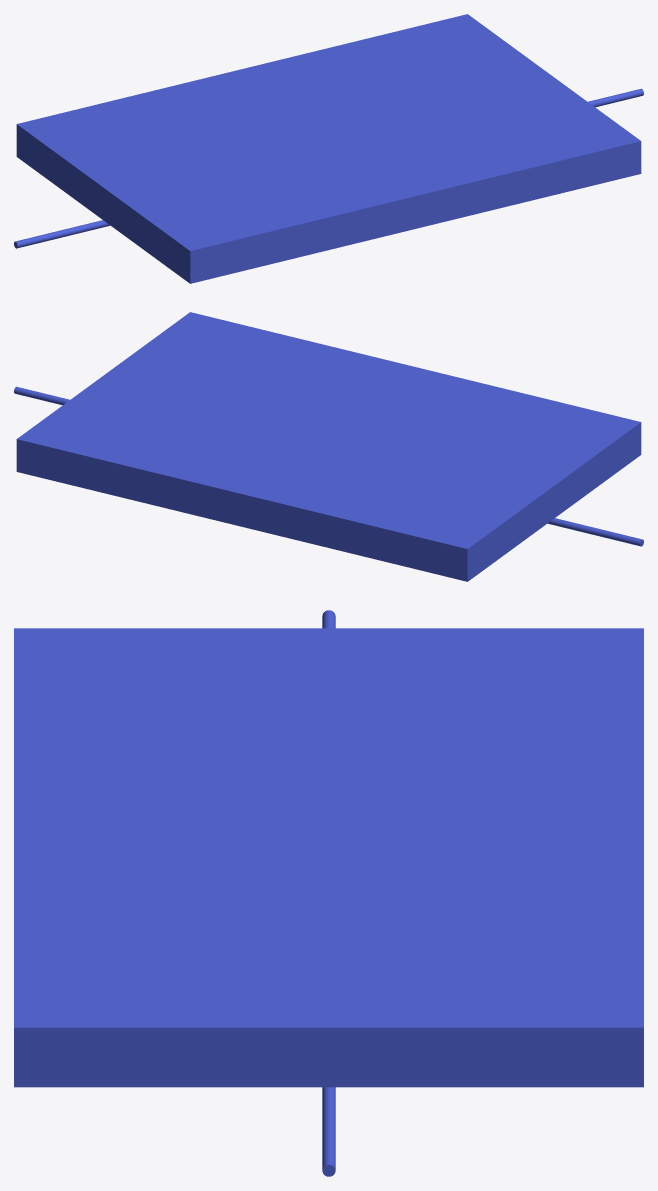
The model's file is Panel.dae.
3 renders of one model, top to bottom at view 1: azimuth 30°, elevation 25°; view 2: azimuth 150°, elevation 25°; view 3: azimuth 270°, elevation 25°, orthographic. The views are drawn at different scales.
Visible parts, largest first — view 1: Panel; view 2: Panel; view 3: Panel.
Part boxes in pixels (x1,y1,x2,y2): Panel: [14, 14, 643, 283]; Panel: [14, 312, 643, 581]; Panel: [14, 610, 643, 1176].
Size of the model in its own units: 0.5 by 0.24 by 0.03.
